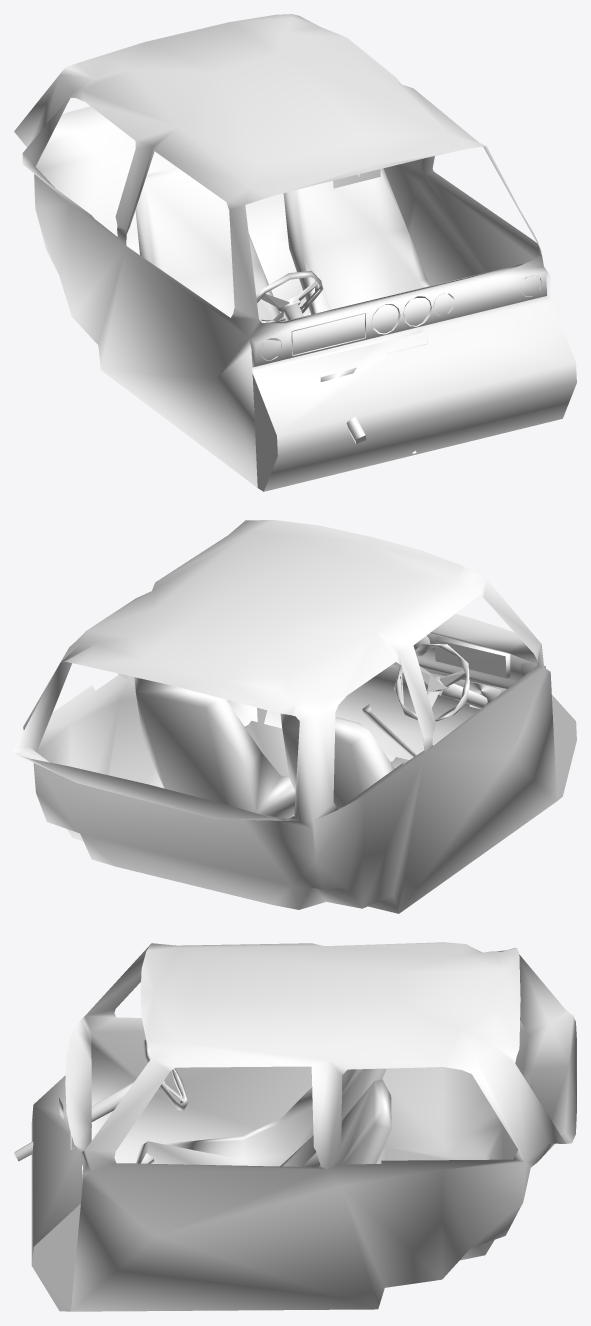
3 renders of one model, top to bottom at view 1: azimuth 30°, elevation 25°; view 2: azimuth 150°, elevation 25°; view 3: azimuth 270°, elevation 25°, orthographic. The views are drawn at different scales.
Bounding box in the file's own units: 1.24 × 1.01 × 1.96.
Materials: 1 (1 with a texture image).
